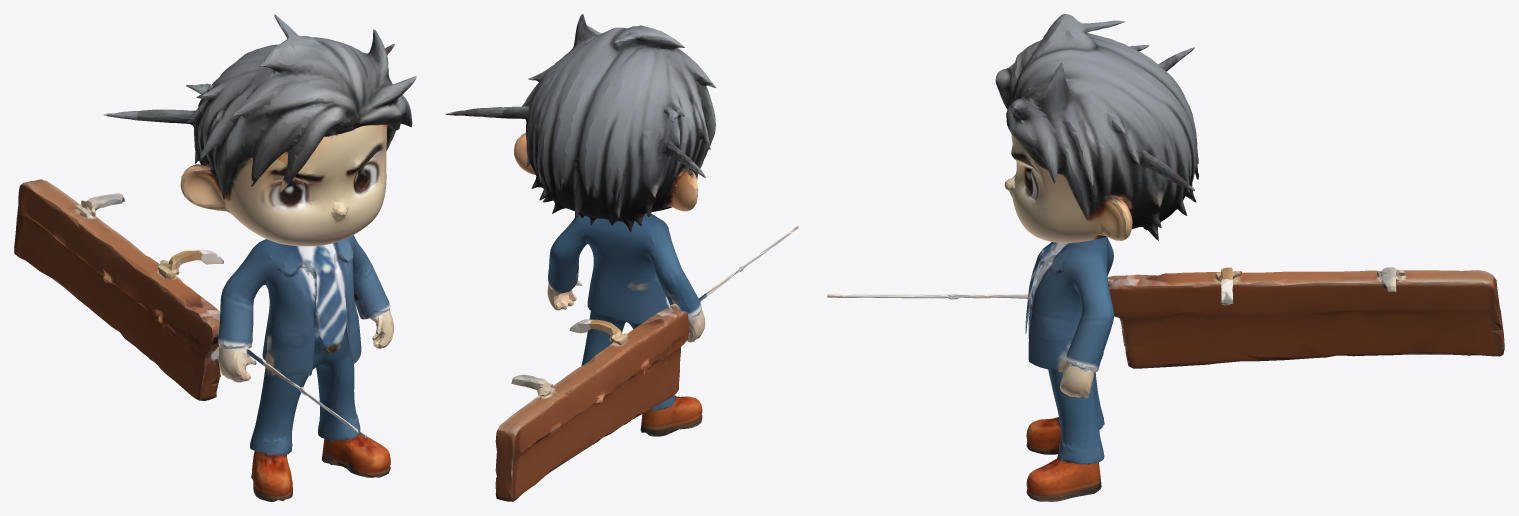
The model's file is player-businessman.glb.
3 renders of one model, left to right at view 1: azimuth 30°, elevation 25°; view 2: azimuth 150°, elevation 25°; view 3: azimuth 270°, elevation 25°, orthographic. The views are drawn at different scales.
Parts seen in each view (by area): view 1: ChibiPlayer; view 2: ChibiPlayer; view 3: ChibiPlayer.
Part boxes in pixels (left/top/right/bottom): ChibiPlayer: left=14, top=14, right=416, bottom=501; ChibiPlayer: left=445, top=14, right=798, bottom=501; ChibiPlayer: left=827, top=14, right=1504, bottom=501.
Size of the model in its own units: 0.9236 by 1.34 by 1.85.
1 material, 1 textured.
